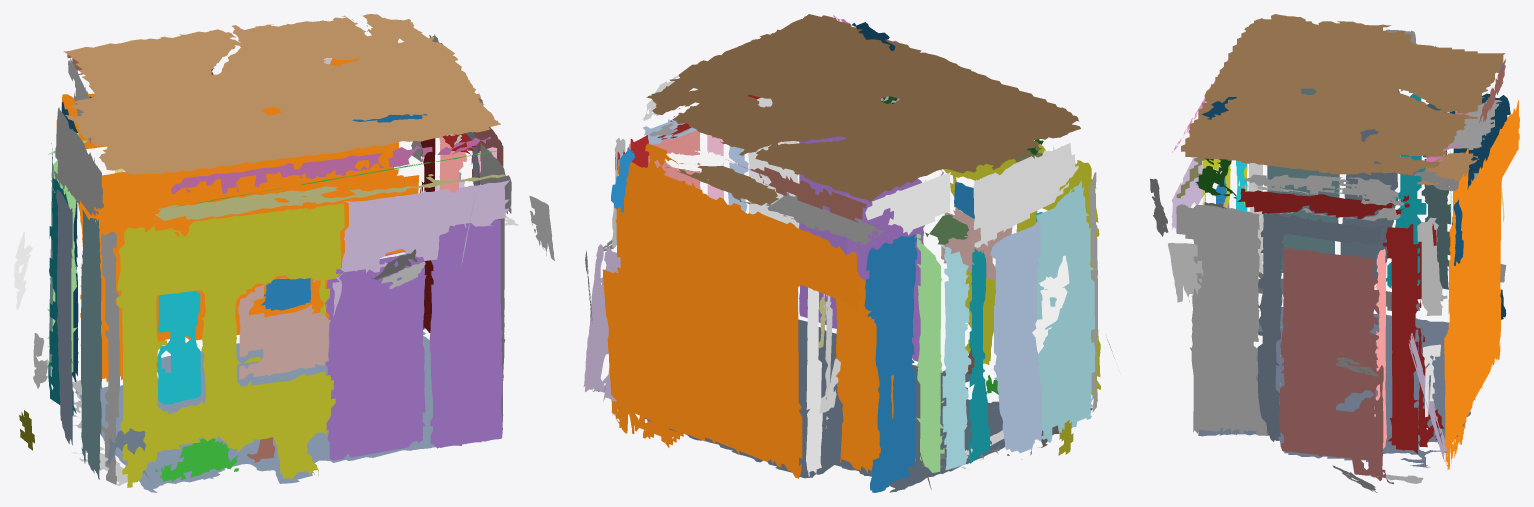
File: airplanes.glb
3 views of the same model, side by side, from view 1: azimuth 30°, elevation 25°; view 2: azimuth 150°, elevation 25°; view 3: azimuth 270°, elevation 25° (orthographic). The views are drawn at different scales.
Parts seen in each view (by area): view 1: Node1; view 2: Node1; view 3: Node1.
Boxes of the visible parts, <box> form: Node1: <box>14,14,554,492</box>; Node1: <box>583,14,1114,492</box>; Node1: <box>1150,14,1519,492</box>.
Size of the model in its own units: 4.58 by 3.22 by 3.44.
